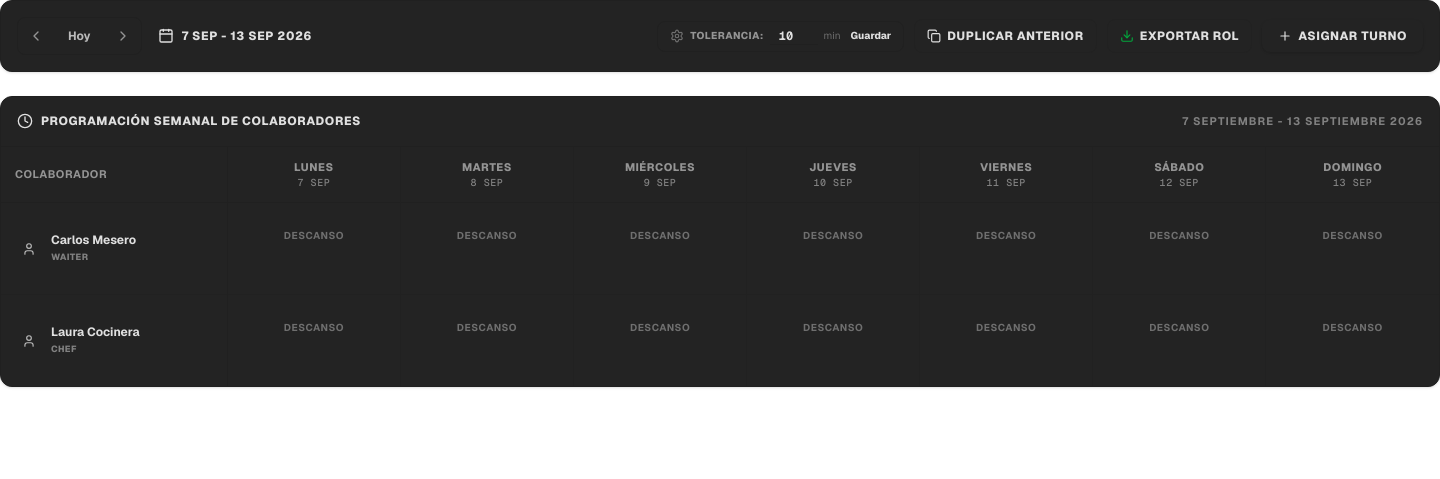
Scenario: WeeklyShiftPlanner Component › handles error during duplicate previous week
Expected: the text "Carlos Mesero" is shown, [51,233,136,248]
Click the button "Duplicar Anterior" at {"x": 1006, "y": 36}, box [914,19,1097,53]
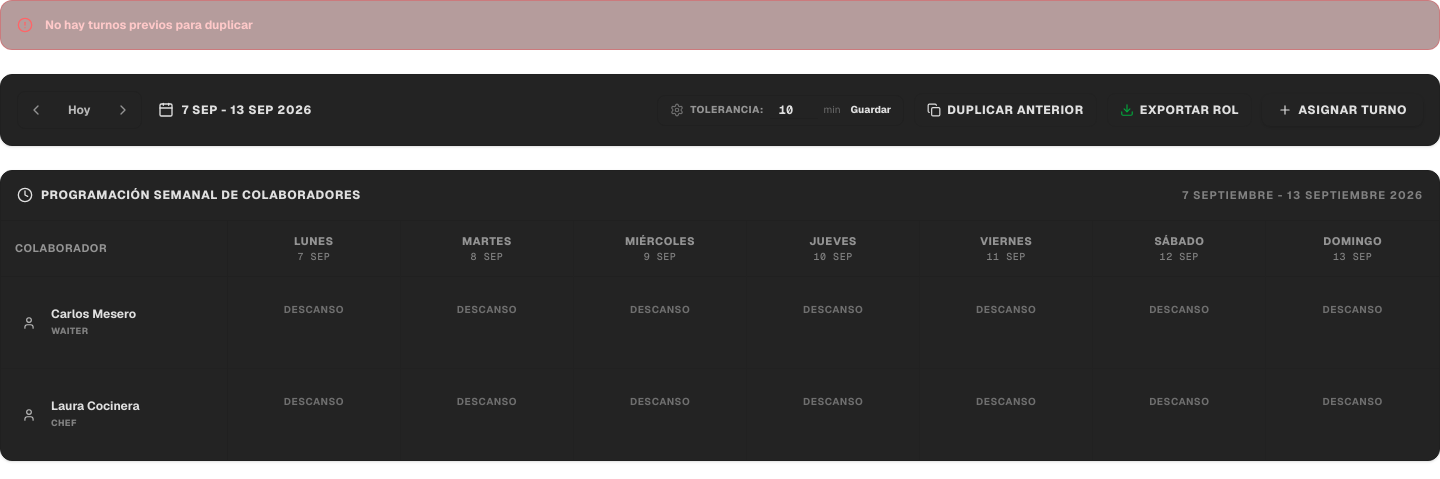
Expected: the text "No hay turnos previos para duplicar" is shown, [45,17,253,33]
